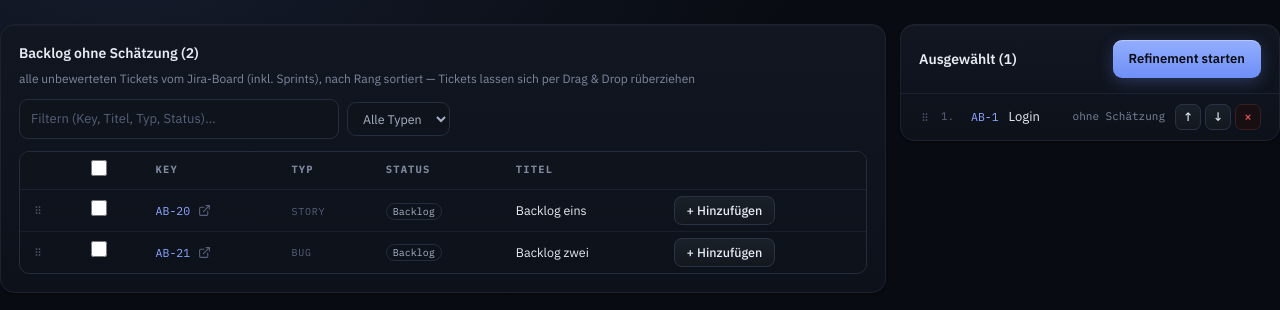
Test: RefinementDraft › filtert das Backlog-Datagrid über das Suchfeld
expect the element with test id "backlog-grid" is shown: met, box 19,99 -> 867,274
Type "zwei" into the field named "Backlog filtern" at (179, 119), box 19,99 -> 339,138
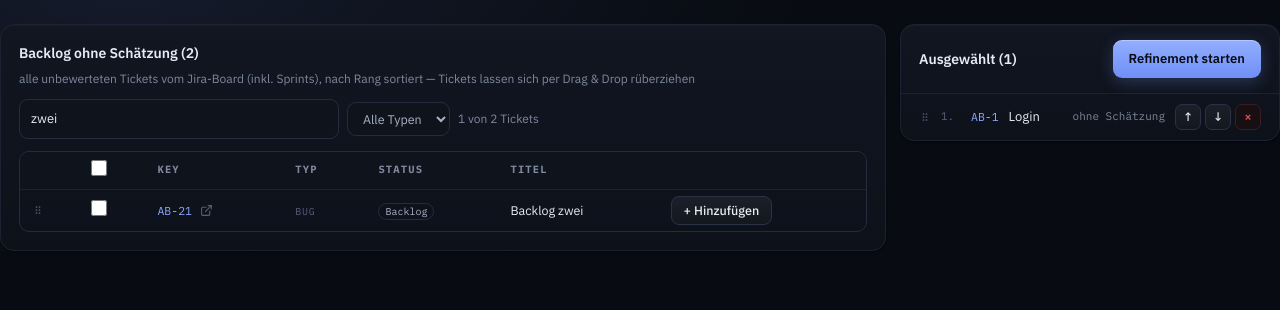
expect the text "AB-21" is shown: met, box 157,202 -> 192,219
expect the text "AB-20" is gone: met
expect the text "1 von 2 Tickets" is shown: met, box 458,110 -> 539,128
